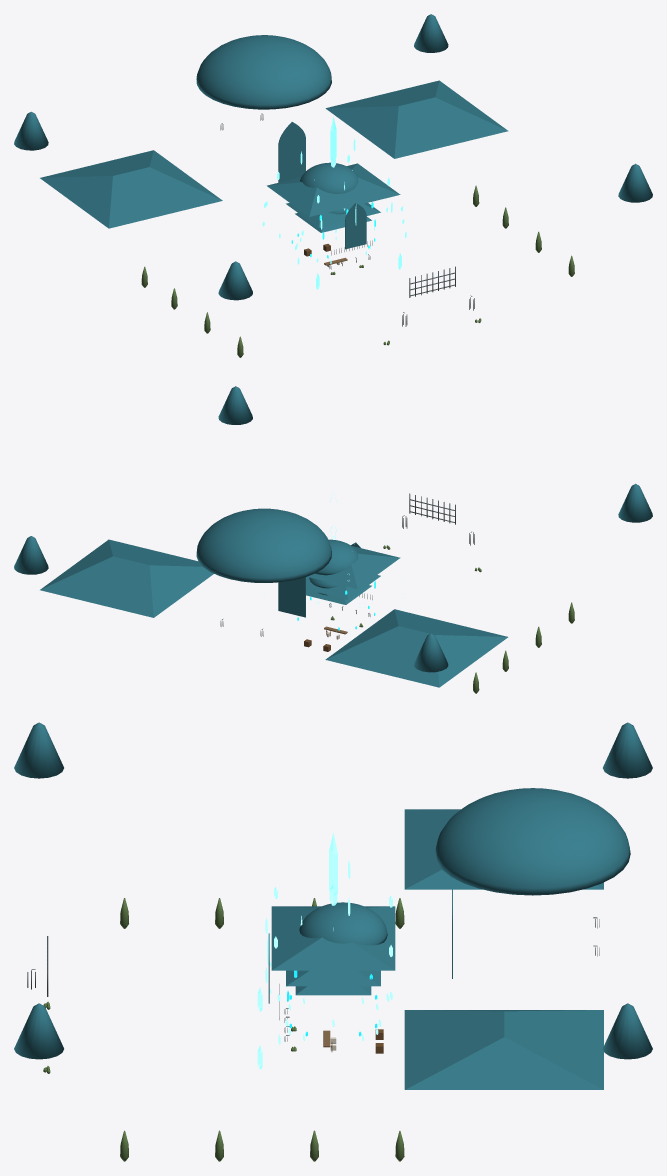
Rendered from Catalog-21.glb.
The picture shows the model from 3 angles, top to bottom: view 1: azimuth 30°, elevation 25°; view 2: azimuth 150°, elevation 25°; view 3: azimuth 270°, elevation 25°; orthographic projection. The views are drawn at different scales.
Visible parts, largest first — view 1: Teal Enamel Roof (×3), Moss Green Leaves, Patinated Iron; view 2: Teal Enamel Roof (×3), Patinated Iron, Moss Green Leaves; view 3: Teal Enamel Roof (×4), Moss Green Leaves, Crystal Bright Facets (×2).
Boxes of the visible parts, <box> form: Teal Enamel Roof (×3): <box>14,14,652,300</box>; Moss Green Leaves: <box>141,185,574,357</box>; Patinated Iron: <box>220,113,474,326</box>; Teal Enamel Roof (×3): <box>14,386,652,687</box>; Patinated Iron: <box>220,493,474,636</box>; Moss Green Leaves: <box>383,545,574,693</box>; Teal Enamel Roof (×4): <box>14,722,652,1089</box>; Moss Green Leaves: <box>43,898,404,1161</box>; Crystal Bright Facets (×2): <box>257,832,392,1069</box>.
Size of the model in its own units: 75.3 by 28.4 by 67.3.
